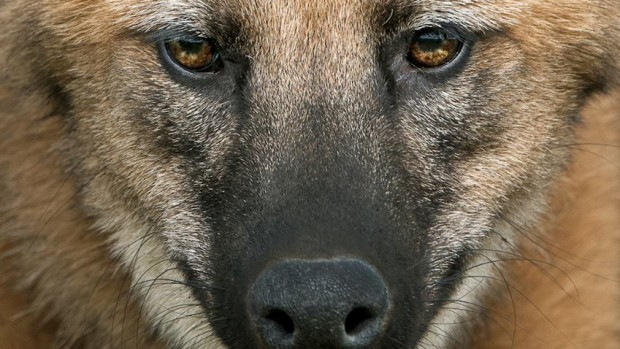LoboGuara: (19, 7, 613, 341)
